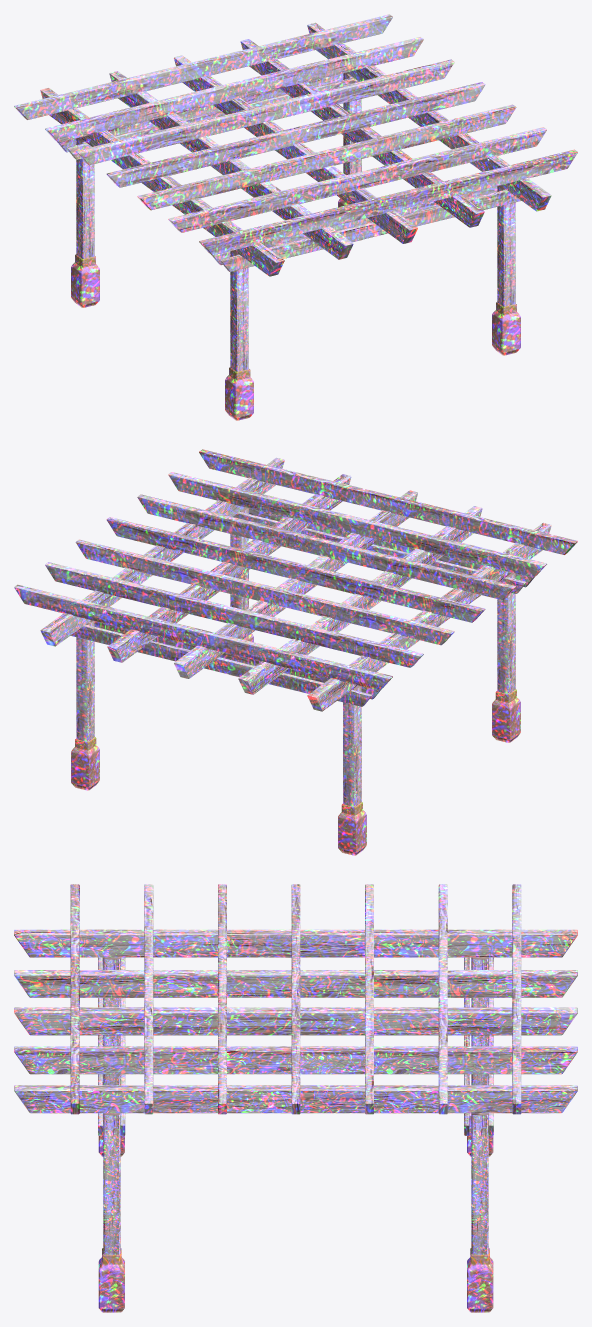
File: trellace_SM.fbx
3 renders of one model, top to bottom at view 1: azimuth 30°, elevation 25°; view 2: azimuth 150°, elevation 25°; view 3: azimuth 270°, elevation 25°, orthographic. The views are drawn at different scales.
Visible parts, largest first — view 1: trellace_SM_LOD0; view 2: trellace_SM_LOD0; view 3: trellace_SM_LOD0.
Boxes of the visible parts, x1,y1,x2,y2 form: trellace_SM_LOD0: [14, 14, 577, 420]; trellace_SM_LOD0: [14, 449, 577, 855]; trellace_SM_LOD0: [14, 884, 577, 1312].
Bounding box in the file's own units: 997 × 1083 × 503.
Materials: 3 (3 with a texture image).
